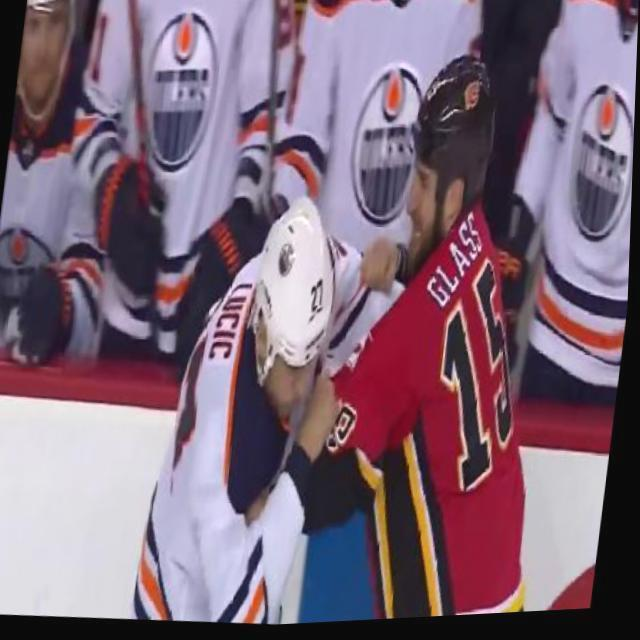fight: (152, 32, 542, 633)
